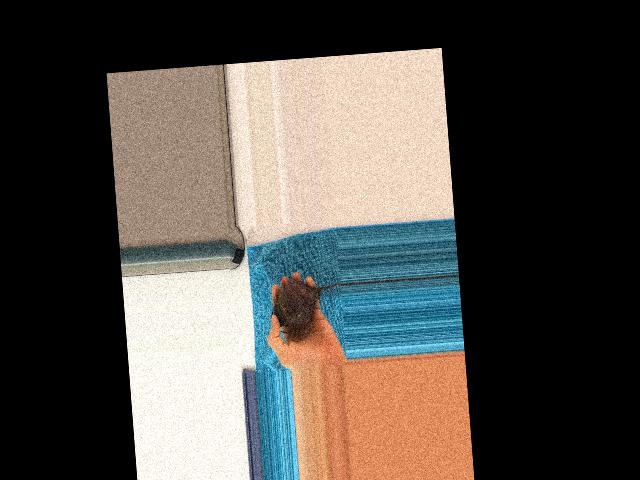beet: (268, 275, 345, 337)
